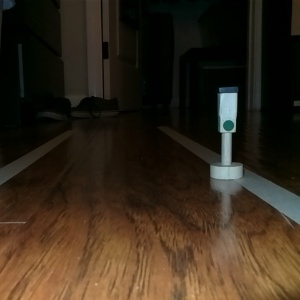traffic light green: (208, 84, 244, 181)
